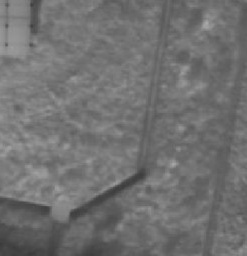solar: (5, 16, 33, 57)
